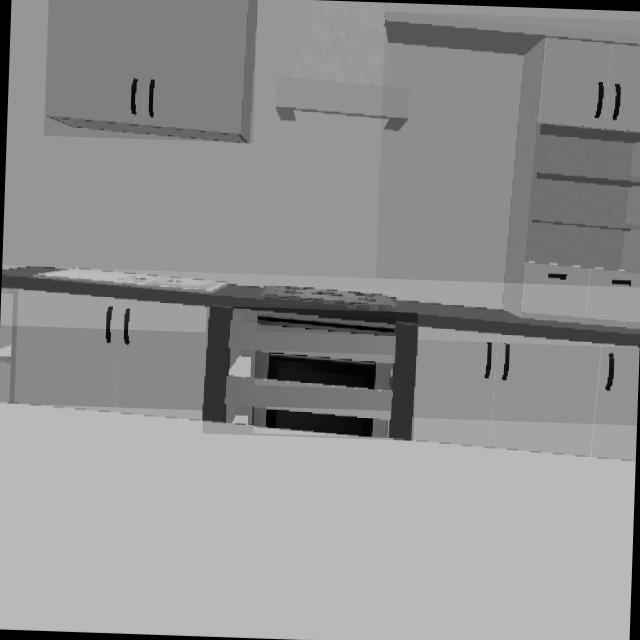cabinet: (384, 12, 640, 330), (411, 327, 639, 463), (47, 0, 257, 142), (0, 288, 208, 419)
chair: (202, 306, 417, 439)
countertop: (1, 266, 640, 347)
oven: (256, 351, 392, 390), (253, 407, 389, 437), (257, 314, 395, 336)
stove: (263, 286, 395, 308)
table: (0, 404, 635, 640)
